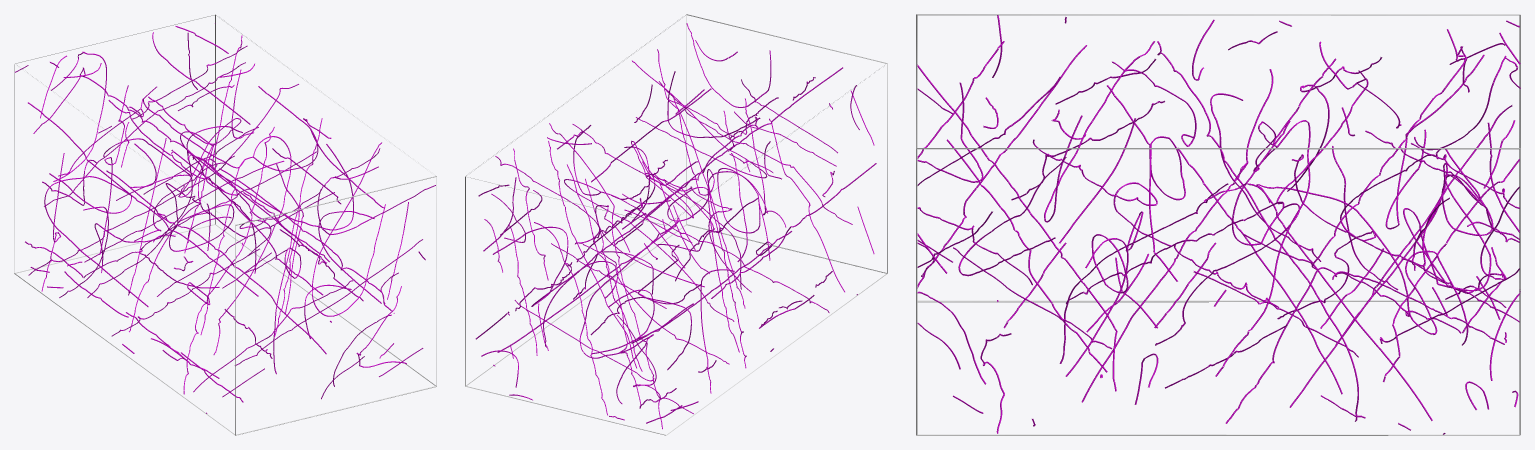
3 views of the same model, side by side, from view 1: azimuth 30°, elevation 25°; view 2: azimuth 150°, elevation 25°; view 3: azimuth 270°, elevation 25° (orthographic). The views are drawn at different scales.
Visible parts, largest first — view 1: Shape_IndexedLineSet.001, Shape_IndexedLineSet; view 2: Shape_IndexedLineSet.001, Shape_IndexedLineSet; view 3: Shape_IndexedLineSet.001, Shape_IndexedLineSet.
Boxes of the visible parts, x1,y1,x2,y2 form: Shape_IndexedLineSet.001: [14, 23, 435, 413]; Shape_IndexedLineSet: [14, 14, 436, 435]; Shape_IndexedLineSet.001: [475, 23, 876, 429]; Shape_IndexedLineSet: [465, 14, 887, 435]; Shape_IndexedLineSet.001: [917, 15, 1520, 434]; Shape_IndexedLineSet: [916, 14, 1520, 435].
Size of the model in its own units: 237 by 237 by 451.
